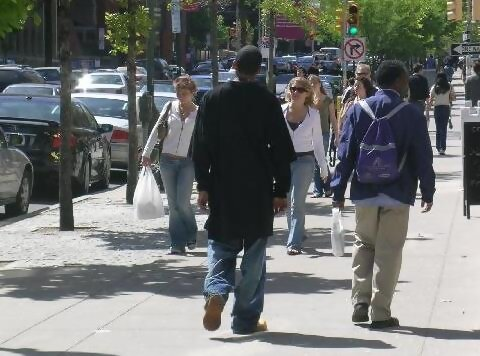person: (196, 44, 291, 339), (336, 58, 436, 330), (136, 74, 206, 256), (268, 76, 330, 259)
